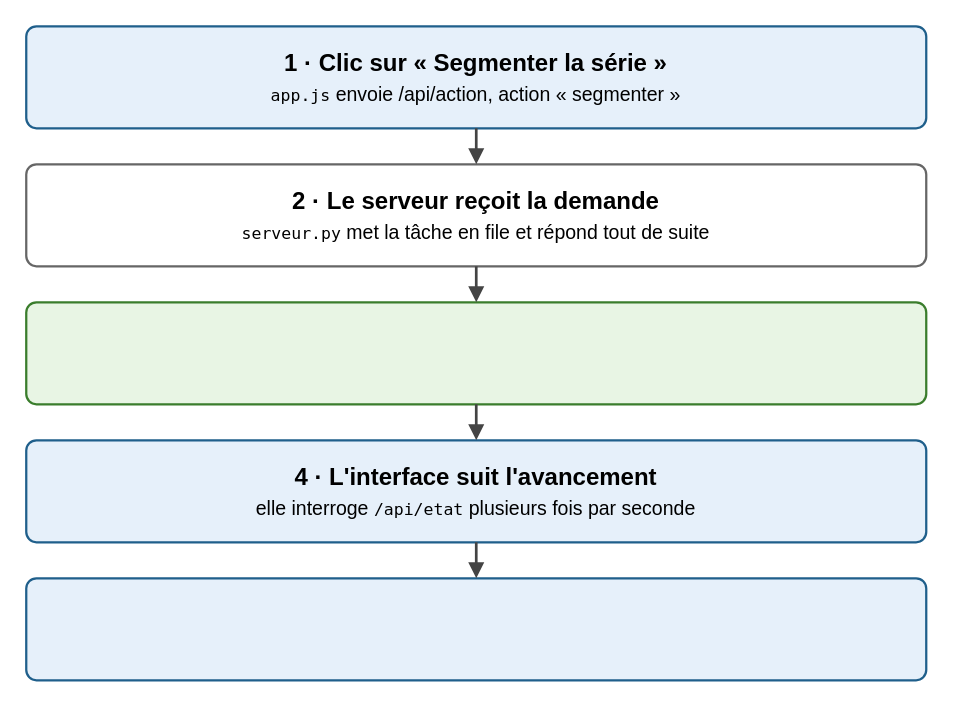
Some shapes in this 954 by 708 pixel diagram are drawn without their labels. Each missing label, with the centre of its shape:
3 · Le fil principal exécute segmenter() → lancer_tout.traiter() → étapes 1 à 6: the point at 475,352
5 · Le résultat s'affiche coupes colorées, os en 3D, carte « Os à planifier »: the point at 475,628
